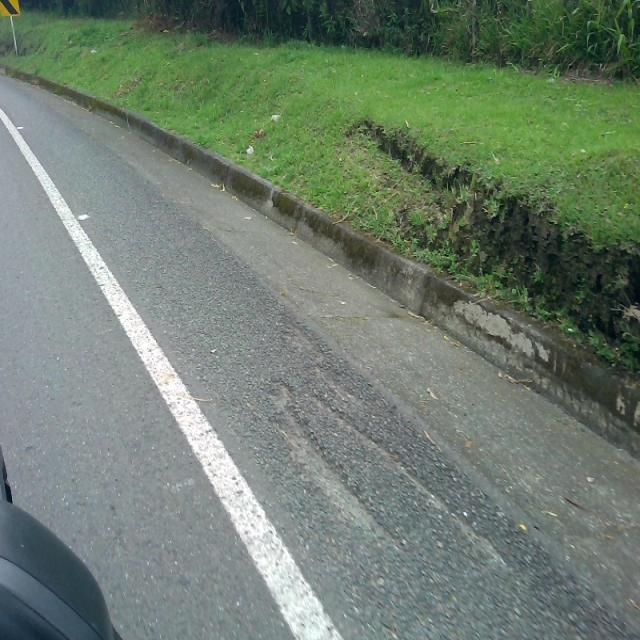DITCH: (2, 66, 638, 638), (1, 117, 638, 638)
